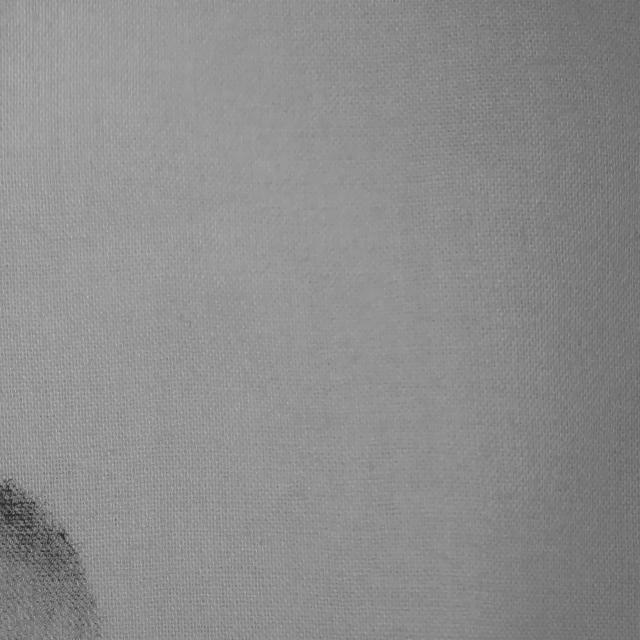Stain: (0, 481, 100, 640)
